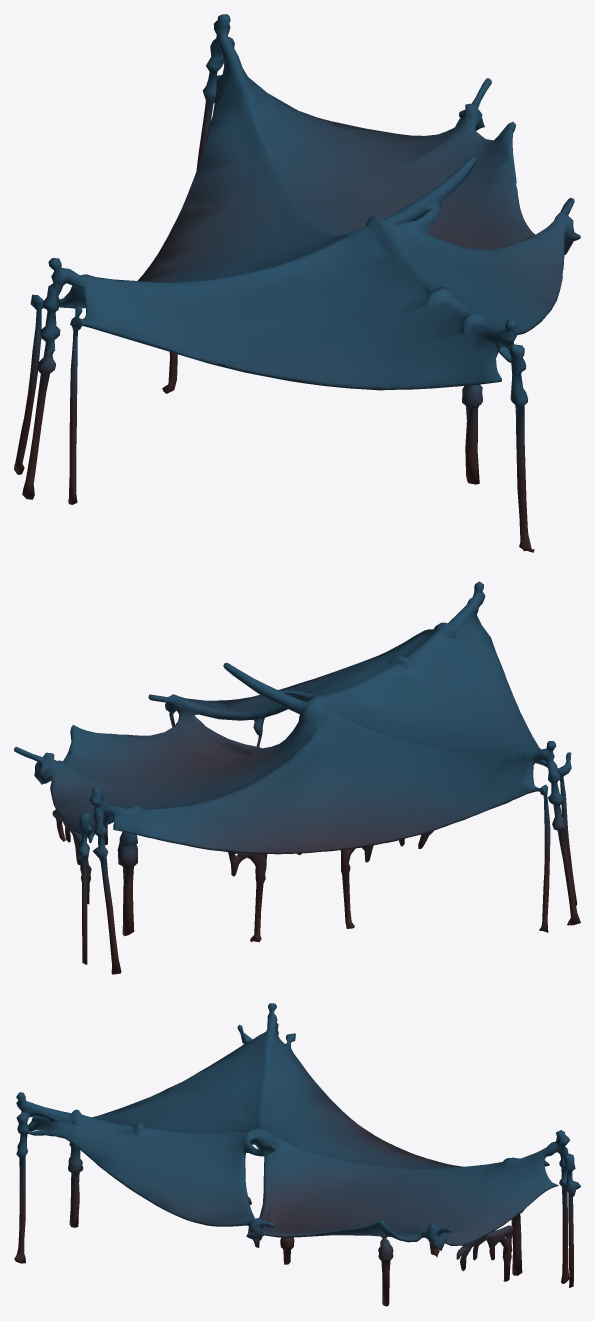
Rendered from shade-canopy.glb.
3 views of the same model, one above another, from view 1: azimuth 30°, elevation 25°; view 2: azimuth 150°, elevation 25°; view 3: azimuth 270°, elevation 25° (orthographic). The views are drawn at different scales.
Parts seen in each view (by area): view 1: shade-canopy; view 2: shade-canopy; view 3: shade-canopy.
Part boxes in pixels (x1,y1,x2,y2): shade-canopy: (14,14,580,552); shade-canopy: (14,581,580,974); shade-canopy: (14,1003,580,1306).
Size of the model in its own units: 0.0417 by 0.0162 by 0.0495.
